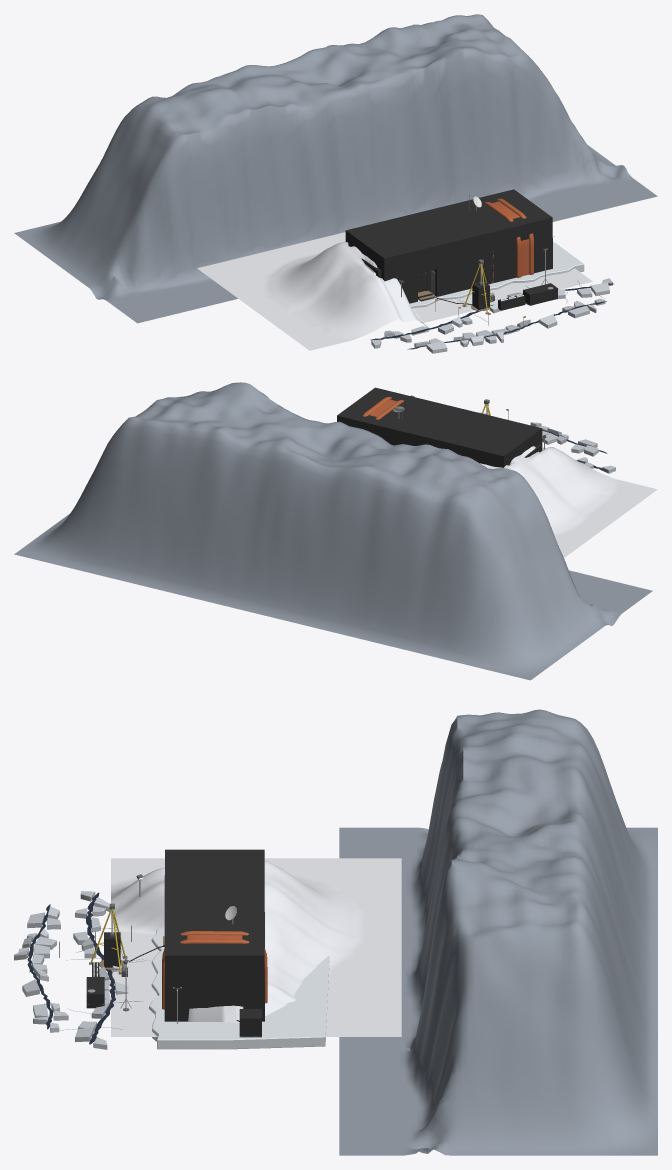
Rendered from mann_camp.glb.
The picture shows the model from 3 angles, top to bottom: view 1: azimuth 30°, elevation 25°; view 2: azimuth 150°, elevation 25°; view 3: azimuth 270°, elevation 25°; orthographic projection. The views are drawn at different scales.
Parts seen in each view (by area): view 1: cliff, mann_snow, COL_hab_roof, mann_ice, COL_hab_side_m_b, mann_hab, mann_props, mann_cracks, COL_sled, COL_hab_side_m_a; view 2: cliff, COL_hab_roof, mann_snow, mann_ice, mann_hab; view 3: cliff, mann_snow, mann_ice, COL_hab_roof, COL_hab_front, mann_cracks, mann_props, mann_hab, COL_pu.
Boxes of the visible parts, x1,y1,x2,y2 form: cliff: (14,14,657,323); mann_snow: (197,232,592,350); COL_hab_roof: (345,189,552,280); mann_ice: (371,242,612,353); COL_hab_side_m_b: (434,237,552,296); mann_hab: (418,198,533,300); mann_props: (399,195,554,328); mann_cracks: (370,280,613,349); COL_sled: (523,283,557,305); COL_hab_side_m_a: (384,270,417,303); cliff: (14,382,652,680); COL_hab_roof: (337,387,542,467); mann_snow: (480,446,657,557); mann_ice: (478,412,615,473); mann_hab: (362,396,403,419); cliff: (339,709,657,1155); mann_snow: (111,858,401,1036); mann_ice: (14,891,329,1049); COL_hab_roof: (165,849,264,986); COL_hab_front: (170,963,258,1021); mann_cracks: (27,892,150,1044); mann_props: (29,874,261,1037); mann_hab: (162,931,267,1009); COL_pu: (239,1009,261,1037).
Bounding box in the file's own units: 56 × 16.18 × 46.5.
